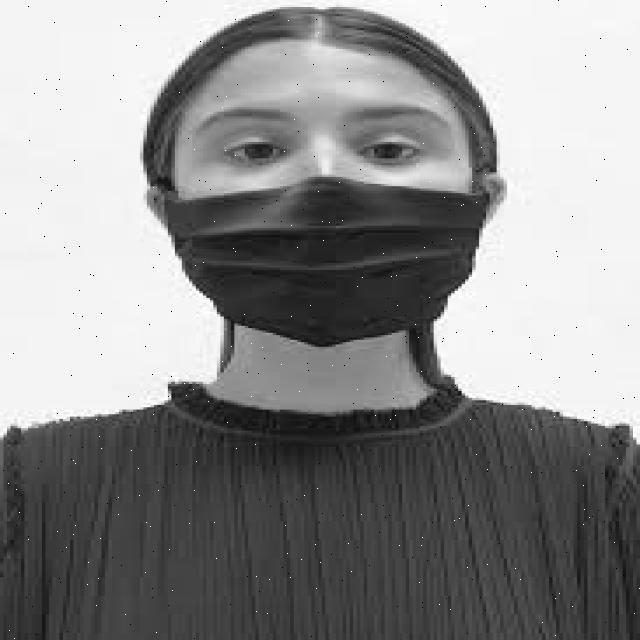fake: (169, 172, 498, 355)
real: (172, 39, 473, 355)
